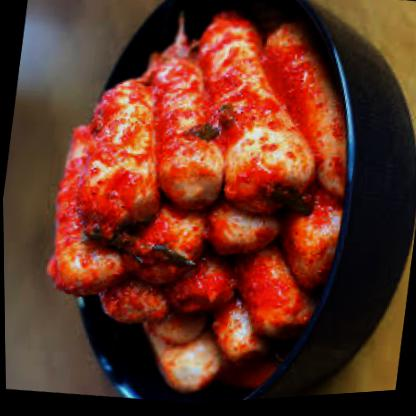chonggak Kimchi: (35, 0, 371, 413)
